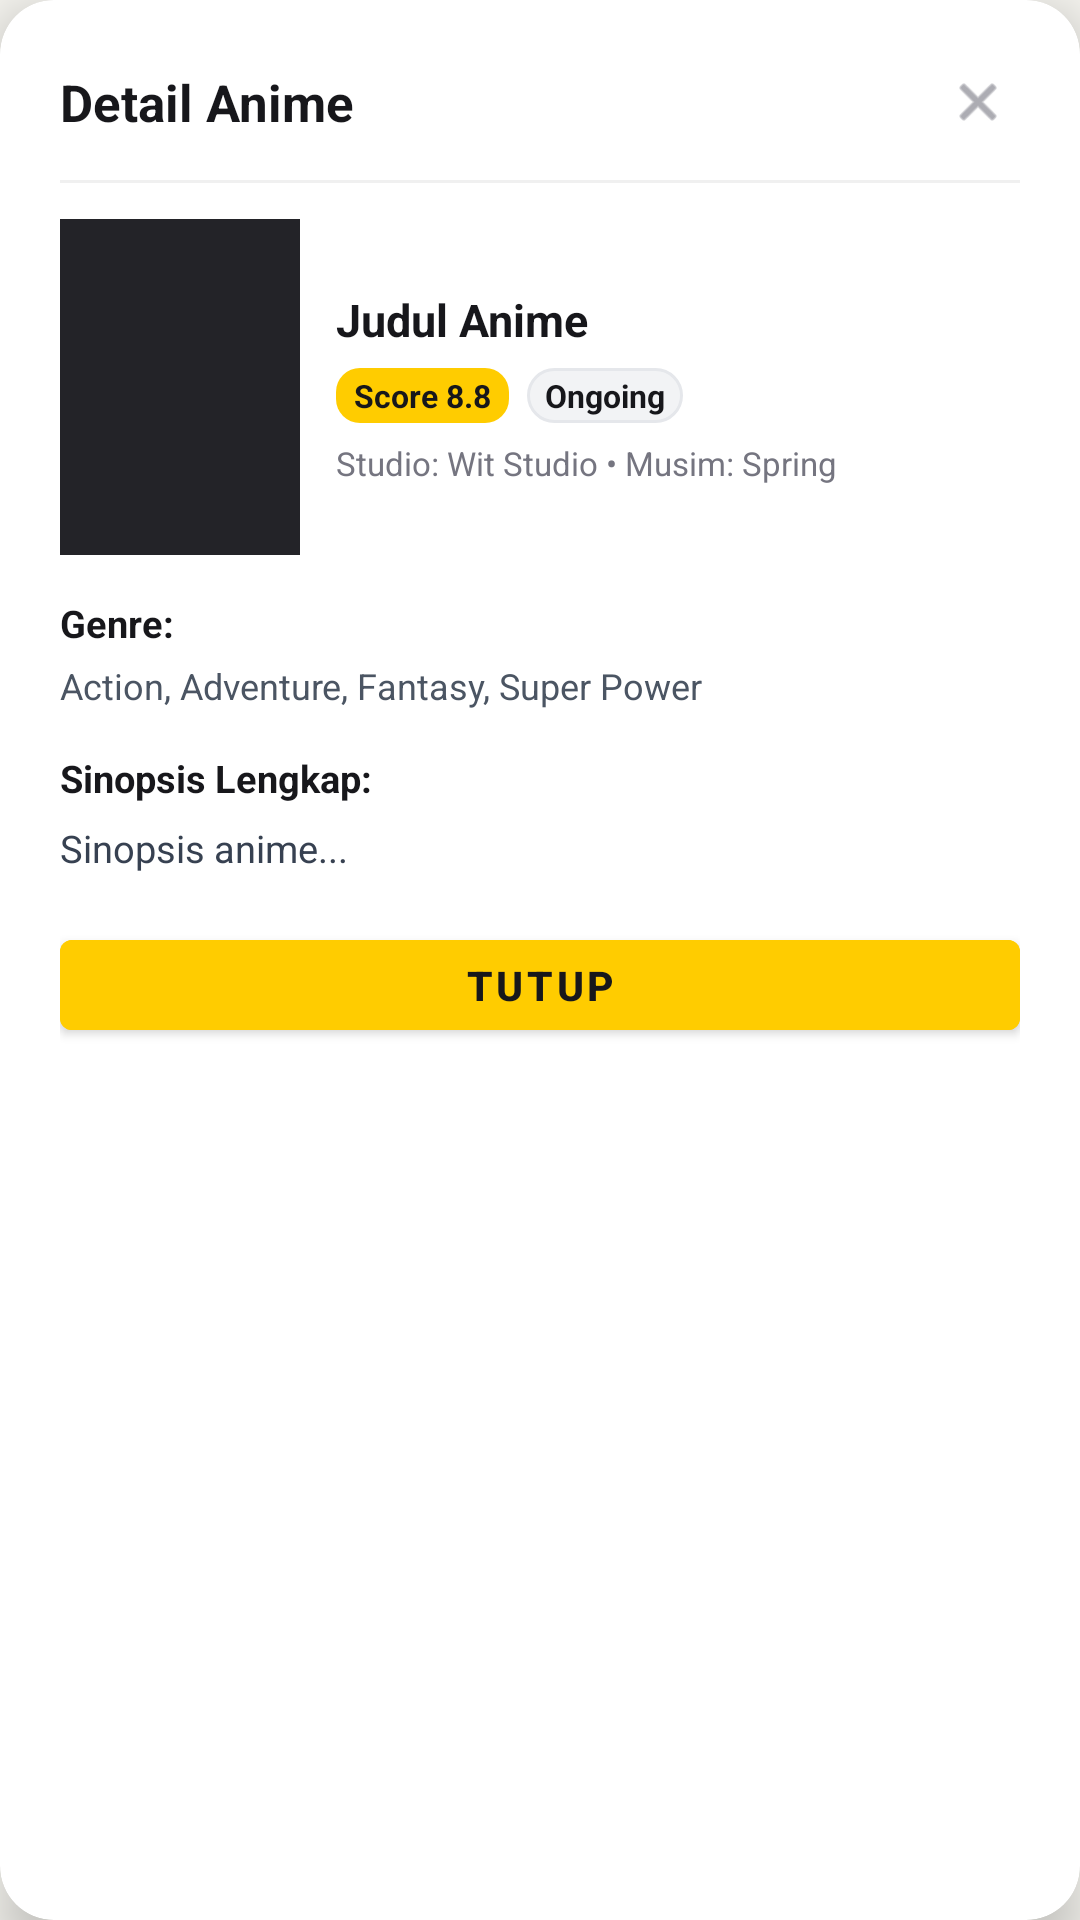

Icon bounding boxes for this 1080x1920 phone screenshot, format Rect(x1, y1, x2, y2):
close clear cancel: Rect(959, 83, 997, 121)
